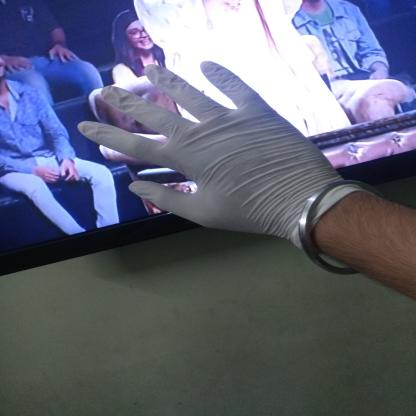gloved_hand: (76, 56, 367, 258)
